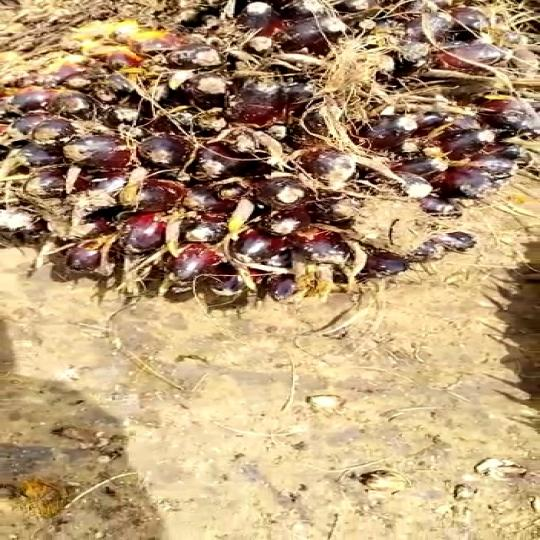mentah: (0, 17, 523, 298)
